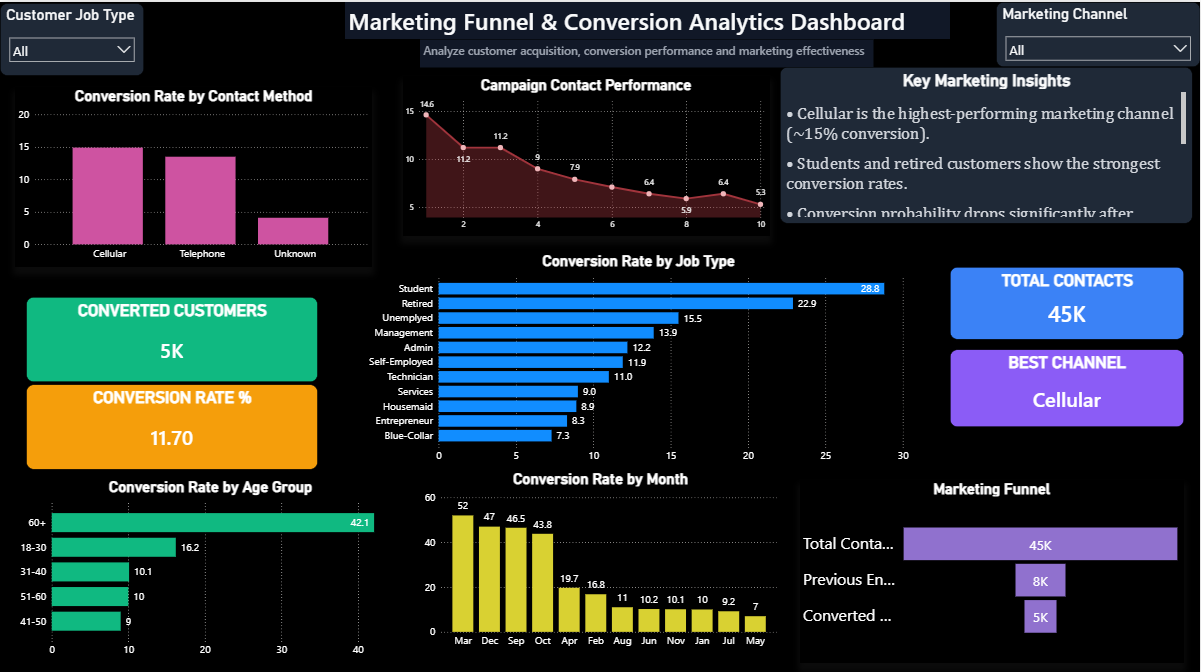

What the dashboard file says about the page in this screenshot:
{"tool":"powerbi","page":{"name":"Page 1","canvas":[1920,1080],"ordinal":0},"visuals":[{"type":"cardVisual","title":"TOTAL CONTACTS","fields":{"Data":["marketing_funnel_cleaned.Total Contacts"]},"box":[1520,424,374,116],"z":0},{"type":"textbox","box":[551.1,0,968.1,59.6],"z":1000},{"type":"textbox","box":[672.3,59.6,725.5,44.7],"z":2000},{"type":"cardVisual","title":"CONVERTED CUSTOMERS","fields":{"Data":["marketing_funnel_cleaned.Converted Customers"]},"box":[42,472,466,136],"z":3000},{"type":"cardVisual","title":"CONVERSION RATE %","fields":{"Data":["marketing_funnel_cleaned.Conversion Rate %"]},"box":[42,612,466,136],"z":4000},{"type":"cardVisual","title":"BEST CHANNEL","fields":{"Data":["marketing_funnel_cleaned.Best Channel"]},"box":[1520,556,374,124],"z":5000},{"type":"funnel","title":"Marketing Funnel","fields":{"Category":["FunnelStages.Stage"],"Y":["Max(FunnelData.Values)"]},"box":[1270.4,763.7,615.3,295],"z":9000},{"type":"lineStackedColumnComboChart","title":"Conversion Rate by Contact Method","fields":{"Category":["ContactMethodRate.Contact Method"],"Y":["Sum(ContactMethodRate.Conversion Rate)"]},"box":[24,136,572,288],"z":10000},{"type":"clusteredBarChart","title":"Conversion Rate by Age Group","fields":{"Category":["AgeGroupRate.Age Group"],"Y":["Sum(AgeGroupRate.Conversion Rate)"]},"box":[24,762,626,296],"z":11000},{"type":"clusteredColumnChart","title":"Conversion Rate by Month","fields":{"Category":["MonthRate.Month"],"Y":["Sum(MonthRate.Conversion Rate)"]},"box":[673.2,761.9,575.5,296.8],"z":15000},{"type":"clusteredBarChart","title":"Conversion Rate by Job Type","fields":{"Category":["JobRate.Job Type"],"Y":["Sum(JobRate.Conversion Rate)"]},"box":[578,400,888,348],"z":16000},{"type":"lineChart","title":"Campaign Contact Performance","fields":{"Category":["CampaignRate.No of Contacts"],"Y":["Sum(CampaignRate.Conversion Rate)"]},"box":[644,118,588,256],"z":17000},{"type":"textbox","title":"Key Marketing Insights","box":[1248,104,660,250],"z":18000},{"type":"slicer","title":"Customer Job Type","fields":{"Values":["marketing_funnel_cleaned.job"]},"box":[0,1.8,255.2,101.3],"z":19000},{"type":"slicer","title":"Marketing Channel","fields":{"Values":["marketing_funnel_cleaned.contact"]},"box":[1594,0,326,104],"z":21000}]}

Visuals, with their boxes in screenshot pixels (x1, y1, x2, y2), scaled from the page's 1920x1080 canvas onto the 1201x672 screenshot:
"TOTAL CONTACTS" cardVisual: BBox(951, 264, 1185, 336)
textbox: BBox(345, 0, 950, 37)
textbox: BBox(421, 37, 874, 65)
"CONVERTED CUSTOMERS" cardVisual: BBox(26, 294, 318, 378)
"CONVERSION RATE %" cardVisual: BBox(26, 381, 318, 465)
"BEST CHANNEL" cardVisual: BBox(951, 346, 1185, 423)
"Marketing Funnel" funnel: BBox(795, 475, 1180, 659)
"Conversion Rate by Contact Method" lineStackedColumnComboChart: BBox(15, 85, 373, 264)
"Conversion Rate by Age Group" clusteredBarChart: BBox(15, 474, 407, 658)
"Conversion Rate by Month" clusteredColumnChart: BBox(421, 474, 781, 659)
"Conversion Rate by Job Type" clusteredBarChart: BBox(362, 249, 917, 465)
"Campaign Contact Performance" lineChart: BBox(403, 73, 771, 233)
"Key Marketing Insights" textbox: BBox(781, 65, 1193, 220)
"Customer Job Type" slicer: BBox(0, 1, 160, 64)
"Marketing Channel" slicer: BBox(997, 0, 1200, 65)
